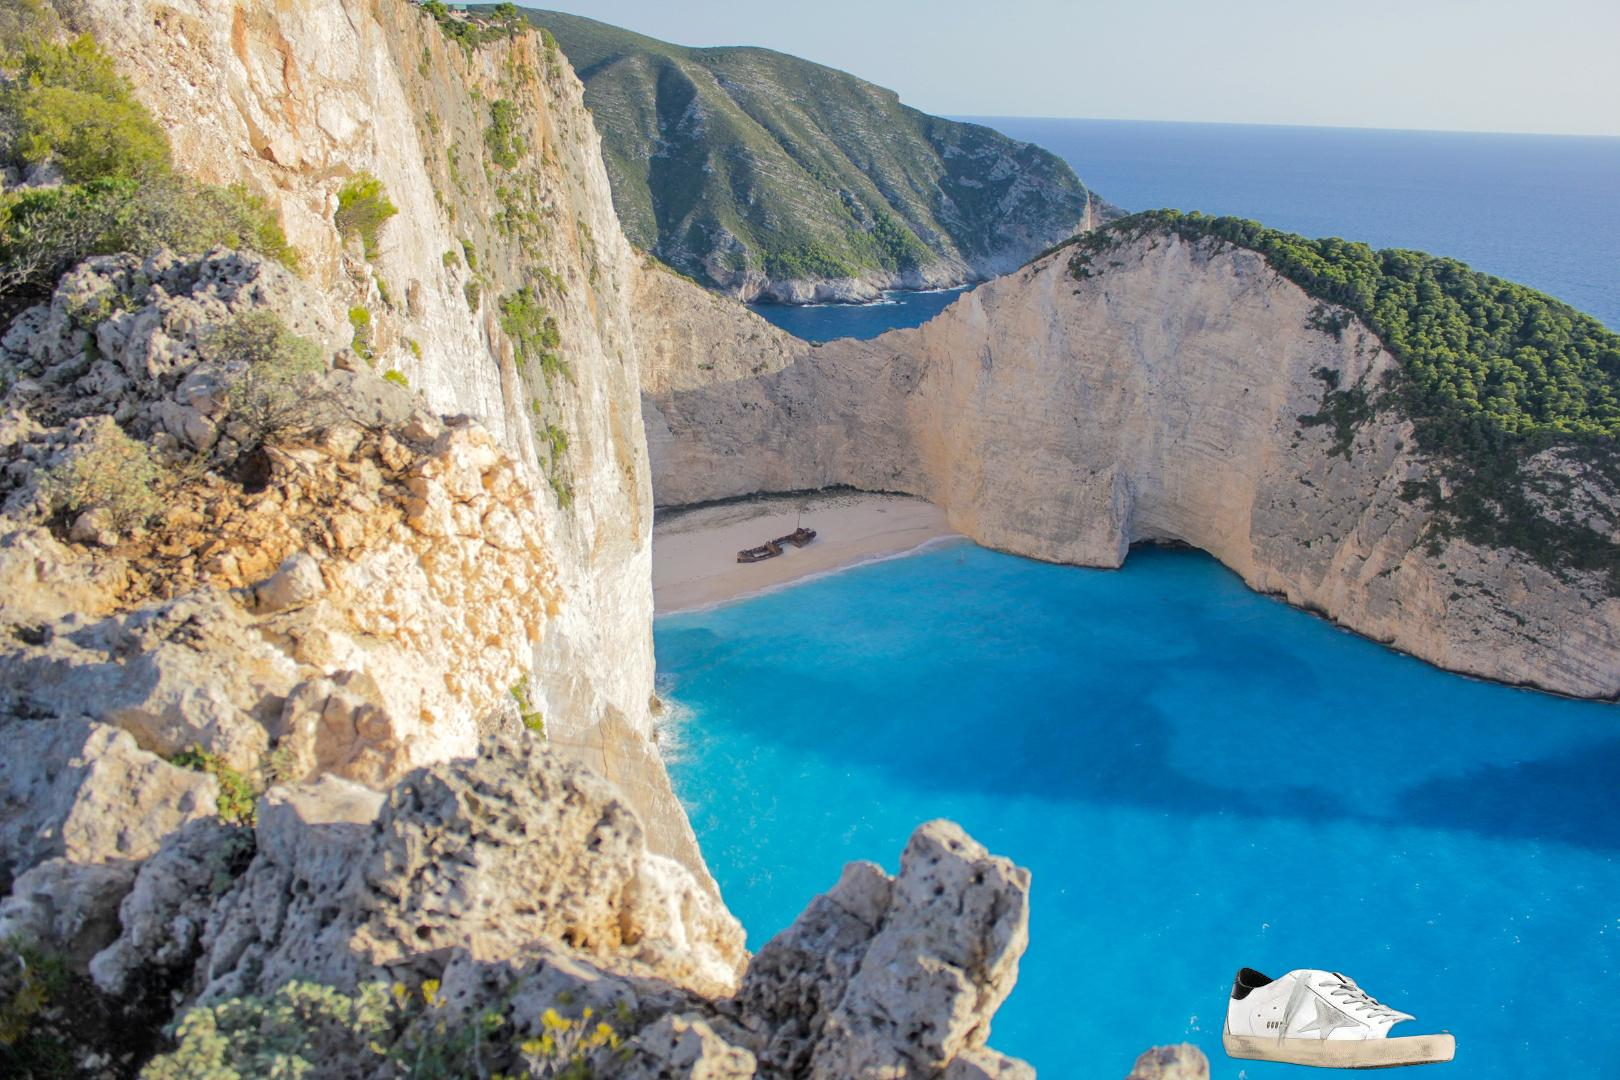paper: (1491, 925, 1620, 1080)
shoes: (1220, 965, 1458, 1072)
